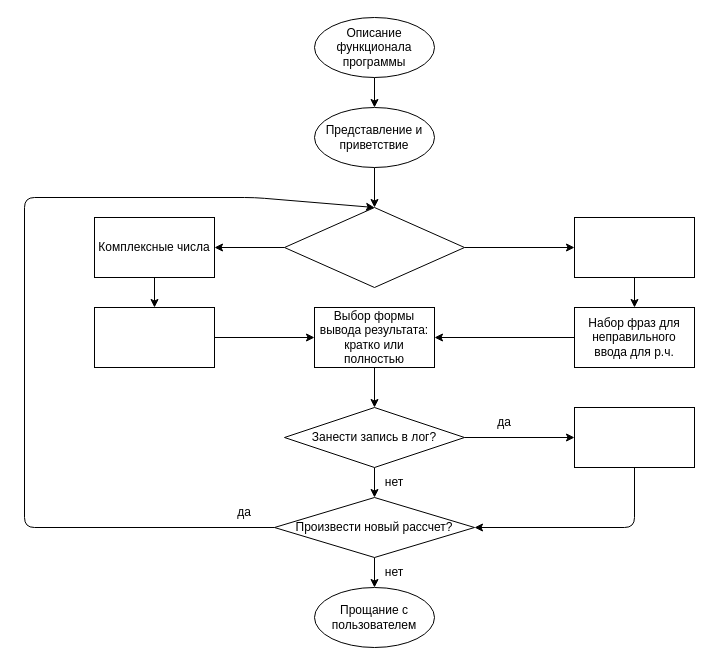
This 712x665 diagram has some shape labels left out. The shapes that lost their labels are listed below. From the top down, each one's centre as x and y in pixels, then its label:
[374,247]: Что требуется посчитать?
[634,247]: Рациональные числа
[154,337]: Набор фраз для неправильного ввода для к.ч.
[634,437]: запись в лог
